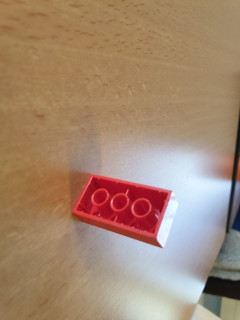2x4 red: (70, 173, 179, 249)
